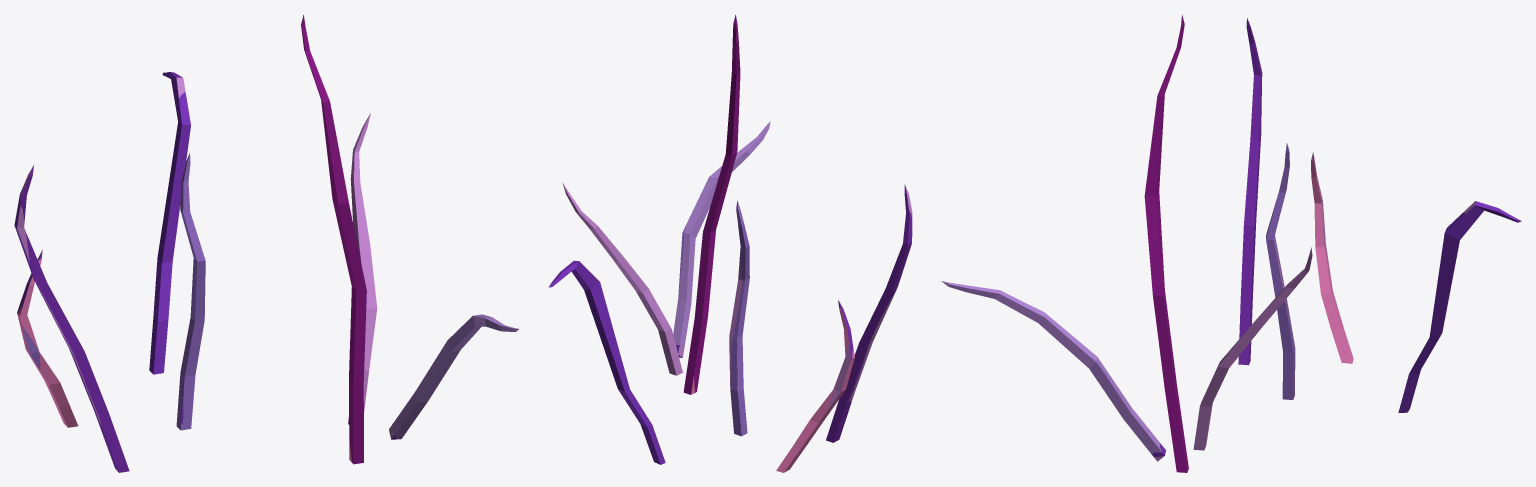
Rendered from Mesh_Grass2.fbx.
3 views of the same model, side by side, from view 1: azimuth 30°, elevation 25°; view 2: azimuth 150°, elevation 25°; view 3: azimuth 270°, elevation 25° (orthographic). The views are drawn at different scales.
Parts seen in each view (by area): view 1: Cube.089, Cube.109, Cube.092, Cube.108, Cube.088, Cube.110, Cube.094; view 2: Cube.089, Cube.109, Cube.088, Cube.092, Cube.108, Cube.110, Cube.094; view 3: Cube.089, Cube.092, Cube.088, Cube.109, Cube.108, Cube.110, Cube.094.
Boxes of the visible parts, bbox=[...] form: Cube.089: bbox=[301, 15, 366, 464]; Cube.109: bbox=[149, 72, 190, 374]; Cube.092: bbox=[14, 165, 129, 472]; Cube.108: bbox=[176, 153, 205, 430]; Cube.088: bbox=[389, 314, 518, 439]; Cube.110: bbox=[348, 113, 377, 424]; Cube.094: bbox=[17, 250, 78, 427]; Cube.089: bbox=[683, 15, 740, 394]; Cube.109: bbox=[548, 260, 665, 464]; Cube.088: bbox=[673, 121, 770, 357]; Cube.092: bbox=[826, 185, 912, 442]; Cube.108: bbox=[729, 200, 749, 436]; Cube.110: bbox=[562, 183, 682, 375]; Cube.094: bbox=[776, 299, 854, 472]; Cube.089: bbox=[1144, 14, 1188, 472]; Cube.092: bbox=[1238, 18, 1262, 365]; Cube.088: bbox=[941, 281, 1165, 461]; Cube.109: bbox=[1398, 201, 1521, 412]; Cube.108: bbox=[1266, 143, 1295, 399]; Cube.110: bbox=[1193, 247, 1312, 450]; Cube.094: bbox=[1311, 152, 1353, 363].
Size of the model in its own units: 94.63 by 108 by 132.
